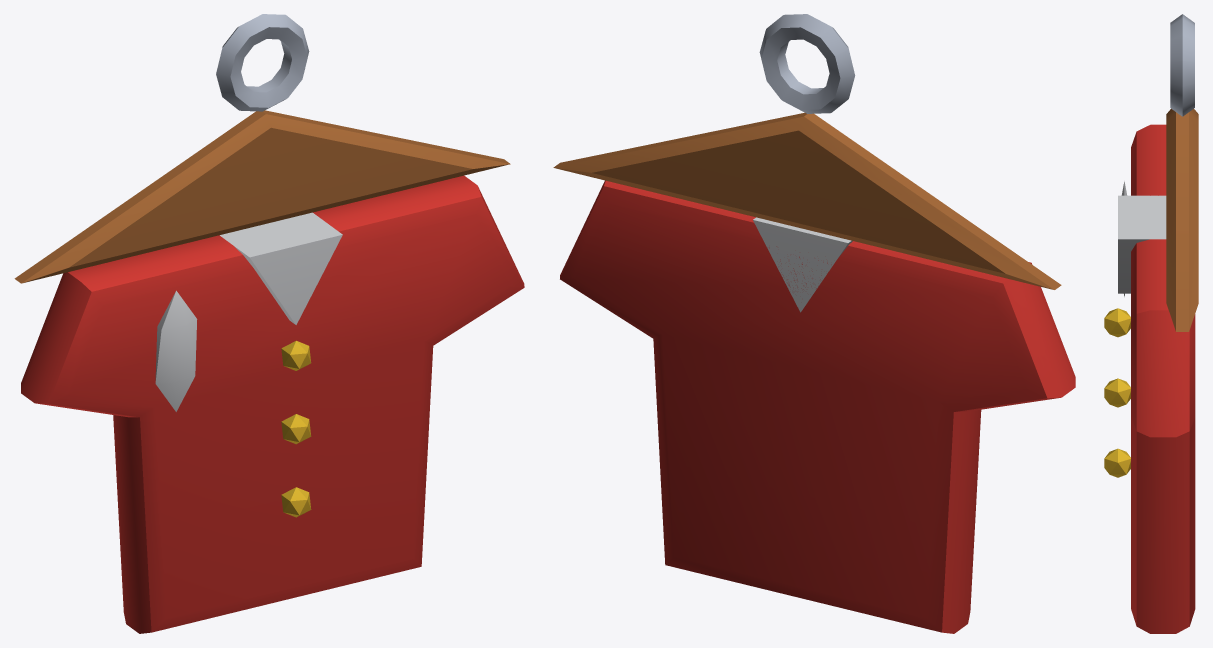
The model's file is ui_wardrobe.glb.
3 renders of one model, left to right at view 1: azimuth 30°, elevation 25°; view 2: azimuth 150°, elevation 25°; view 3: azimuth 270°, elevation 25°, orthographic. The views are drawn at different scales.
Visible parts, largest first — view 1: body; view 2: body; view 3: body.
Part boxes in pixels (x1,y1,x2,y2): body: (14,14,524,633); body: (553,14,1075,633); body: (1104,14,1198,633).
Size of the model in its own units: 0.42 by 0.47 by 0.0731.
